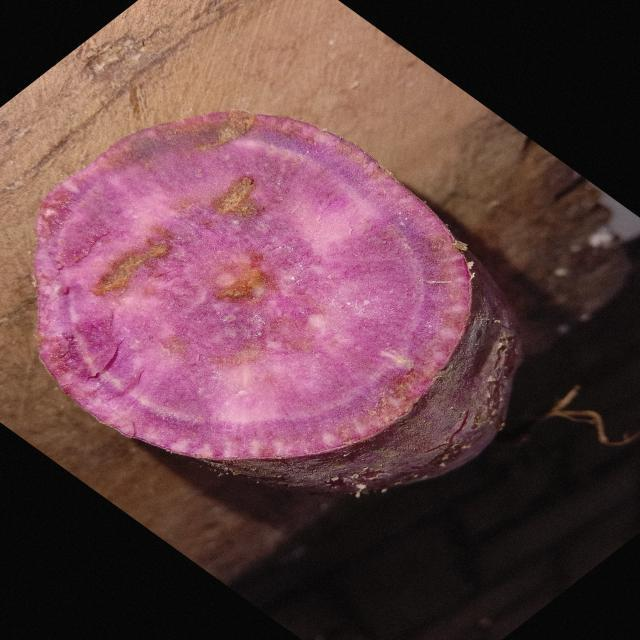Sick Sweet Potato_Tuber Rot: (35, 111, 470, 459)
